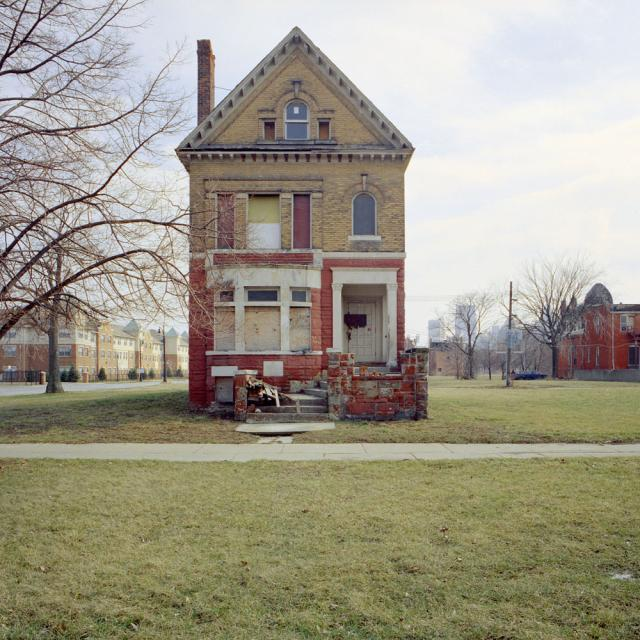House: (175, 24, 428, 422), (0, 306, 189, 382), (557, 282, 640, 377)
